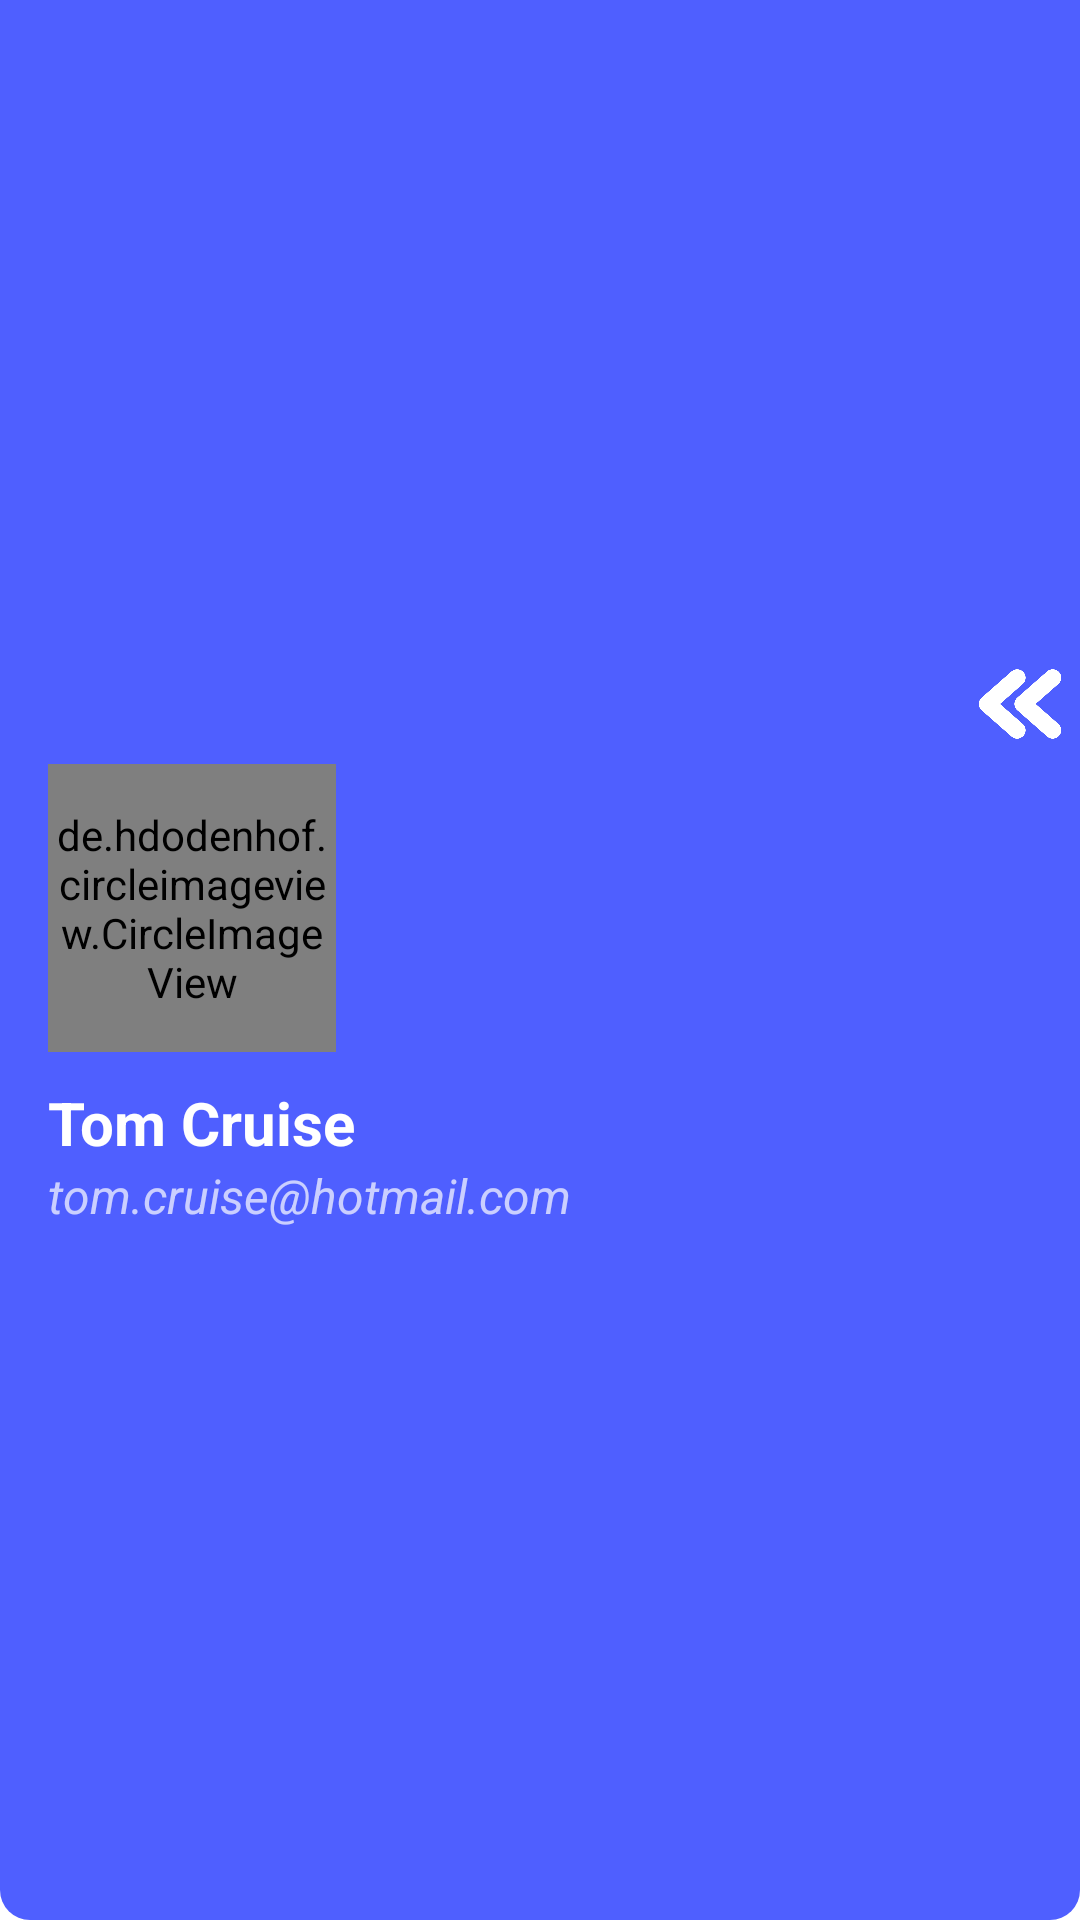

Icon bounding boxes for this 1080 x 1920 phone screenshot, format (x1, y1, x2, y2):
left arrow: (979, 669, 1061, 739)
